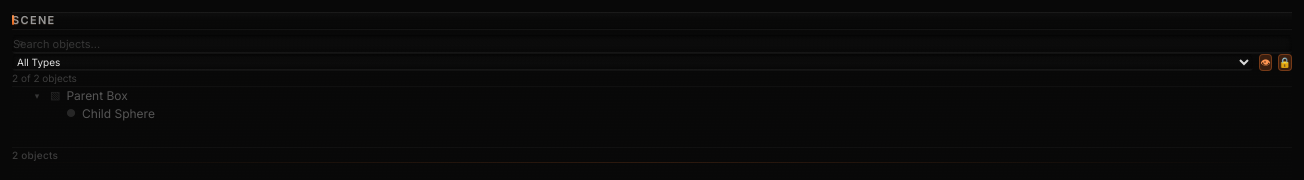
ObjectList › hierarchy display › clicking collapse button hides children
Expected: the text "Child Sphere" is shown, [82,106,155,120]
Click the button named "Collapse Parent Box" at (37, 96), box [30,89,44,102]
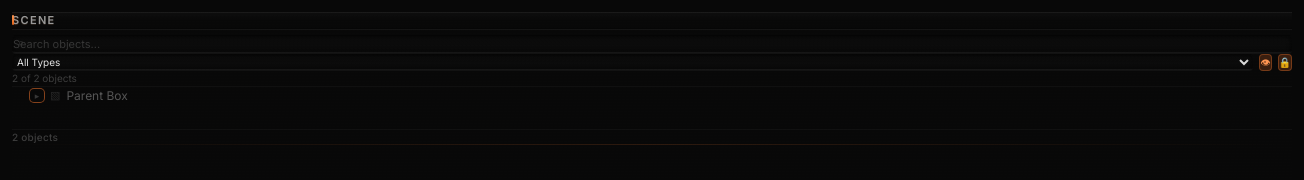
Now the option "Child Sphere" is gone
Now the button named "Expand Parent Box" is shown, box [30,89,44,102]
